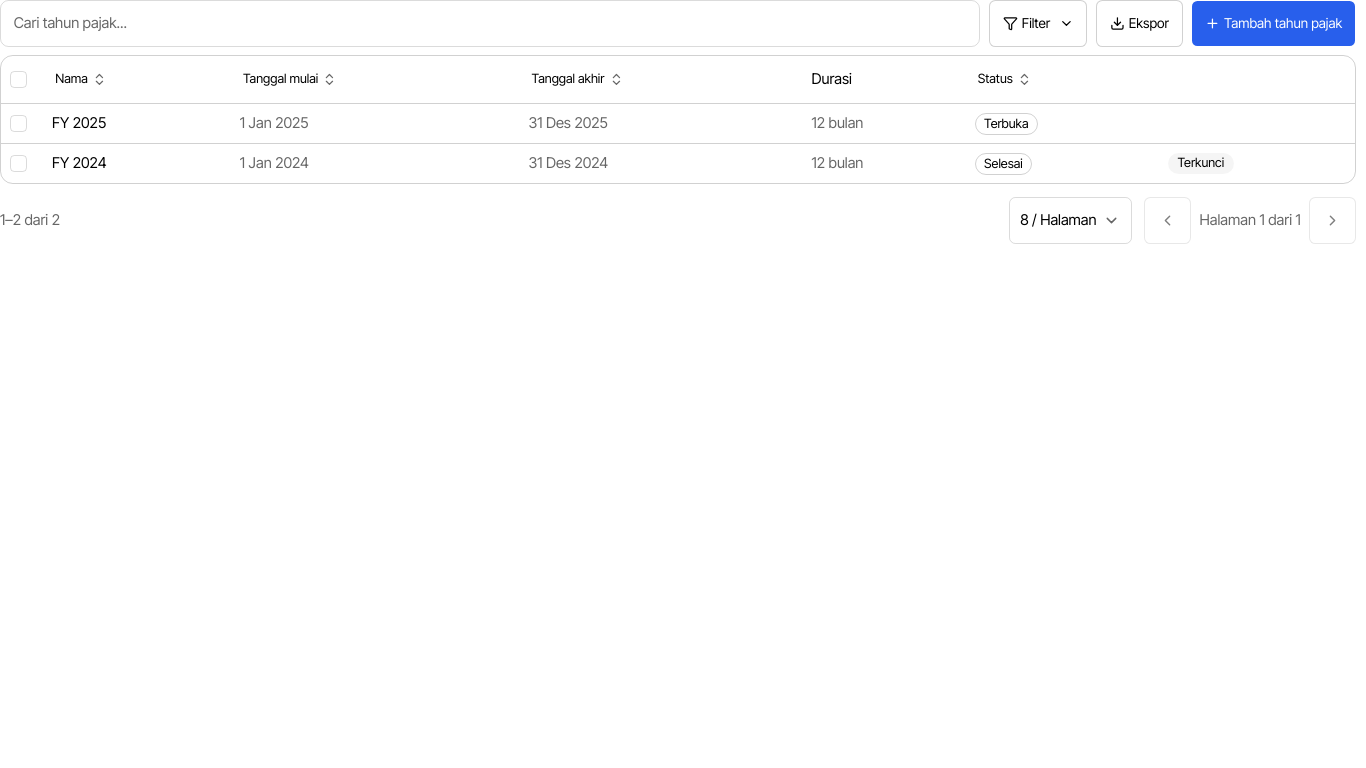
Test: TaxYearsSection › opens the create dialog from the add button
The image size is (1366, 768).
Expected: the text "FY 2025" is shown, 52,114 -> 106,132
Click the button "Tambah tahun pajak" at x=1274, y=23, box 1191,0 -> 1356,47
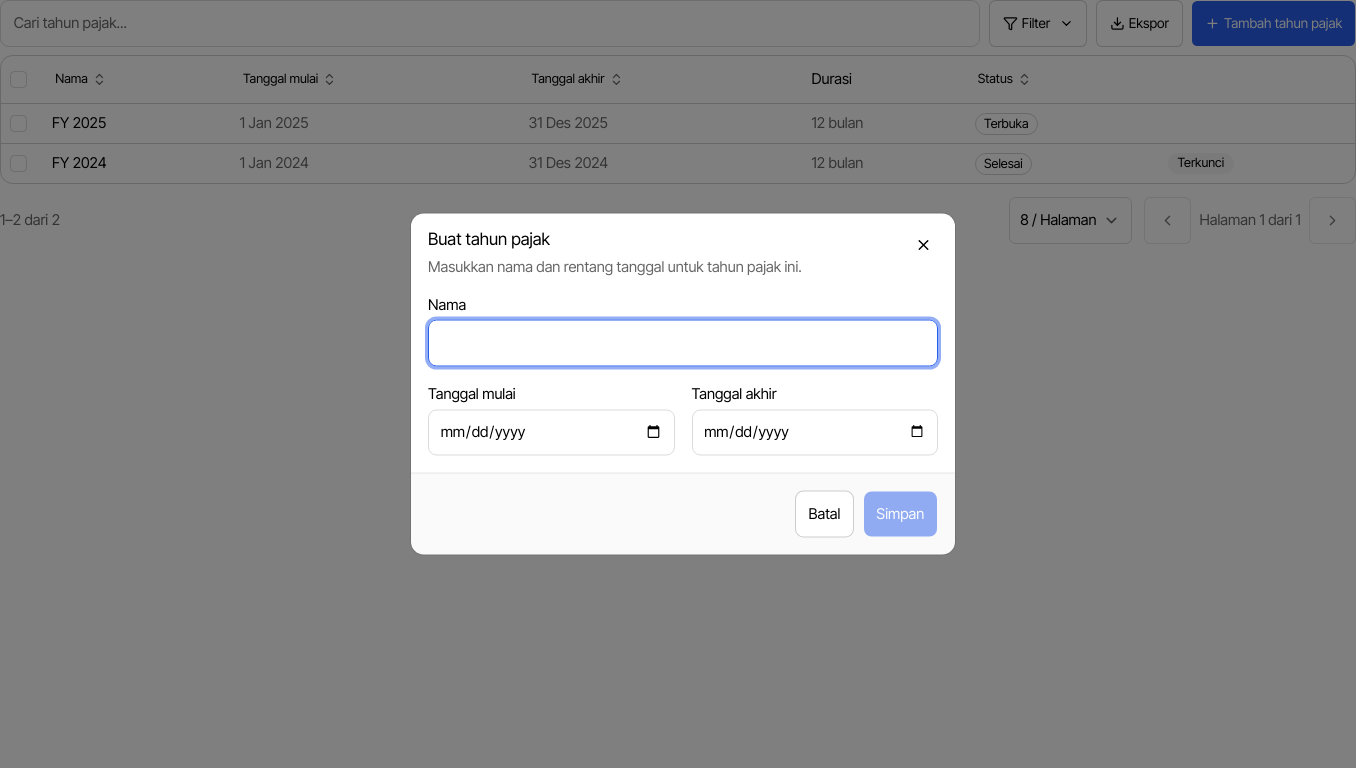
Now the dialog is shown, box 411,214 -> 955,554
Now the heading "Buat tahun pajak" is shown, box 428,228 -> 550,248
